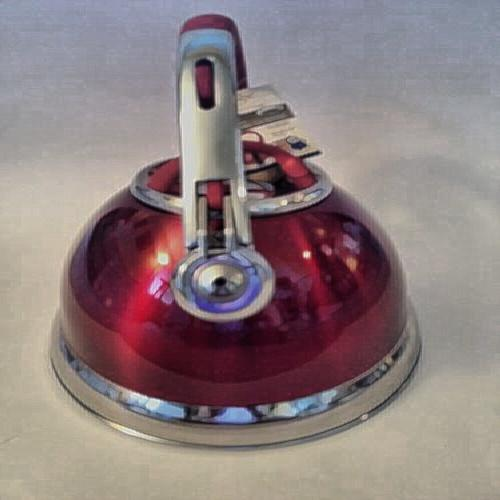kettle: (54, 28, 414, 446)
